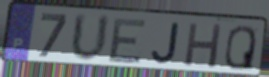7: (37, 12, 71, 61)
E: (106, 18, 149, 65)
H: (182, 20, 225, 70)
J: (150, 22, 181, 66)
Q: (223, 24, 257, 72)
U: (69, 12, 112, 65)
